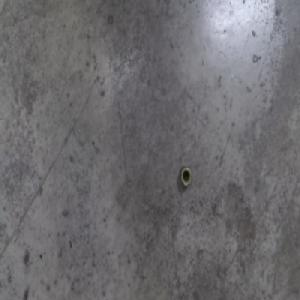Nut: (179, 164, 192, 188)
